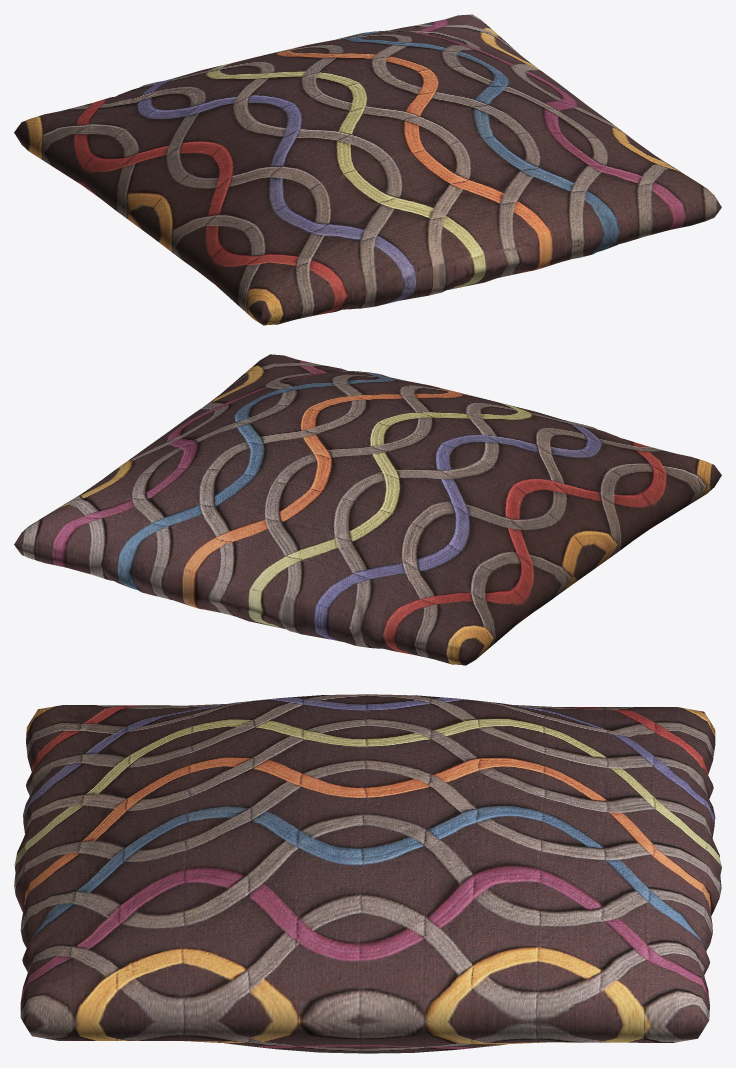
File: PILLOWS_BROWN.fbx
The picture shows the model from 3 angles, top to bottom: view 1: azimuth 30°, elevation 25°; view 2: azimuth 150°, elevation 25°; view 3: azimuth 270°, elevation 25°; orthographic projection. The views are drawn at different scales.
Visible parts, largest first — view 1: Group1; view 2: Group1; view 3: Group1.
Boxes of the visible parts, <box> form: Group1: <box>14,14,721,325</box>; Group1: <box>14,354,721,665</box>; Group1: <box>14,694,721,1053</box>.
Bounding box in the file's own units: 16.59 × 6.14 × 16.17.
